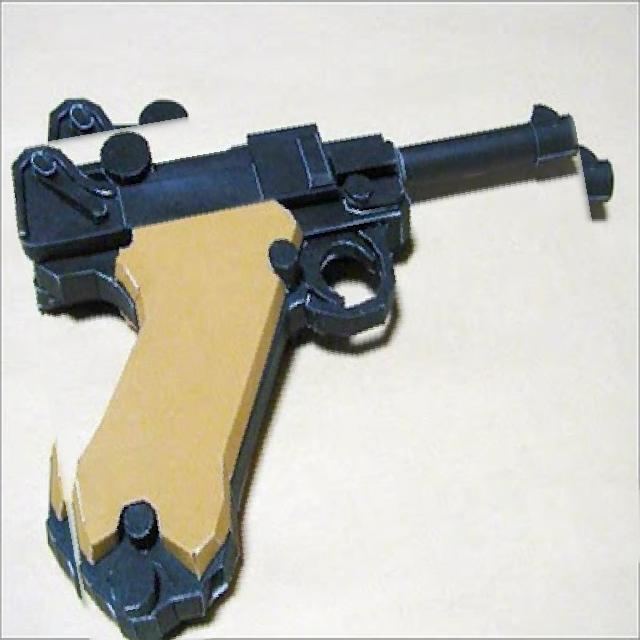gun: (24, 74, 632, 636)
